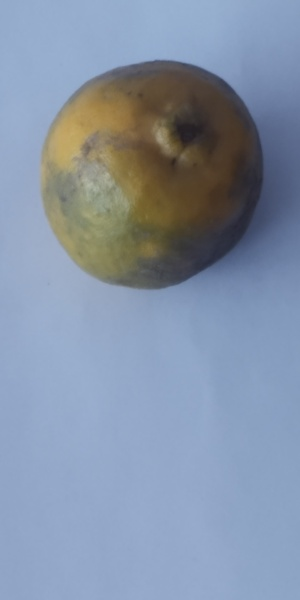BAD: (38, 58, 268, 294)
